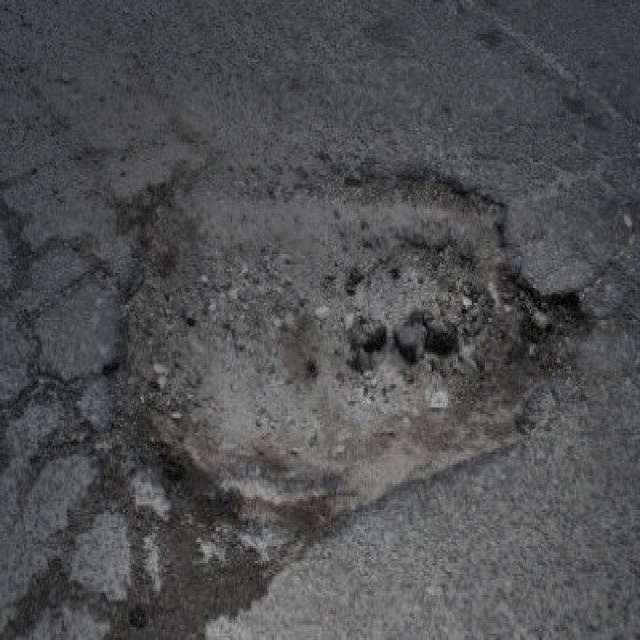pothole: (98, 156, 590, 546)
